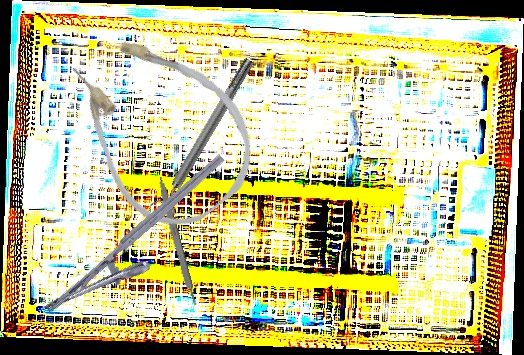Cannula: (40, 2, 280, 250)
Fixation Ring: (145, 53, 264, 224)
Needle Holder: (43, 153, 247, 338)
Scalpel Handle: (154, 176, 199, 307)
